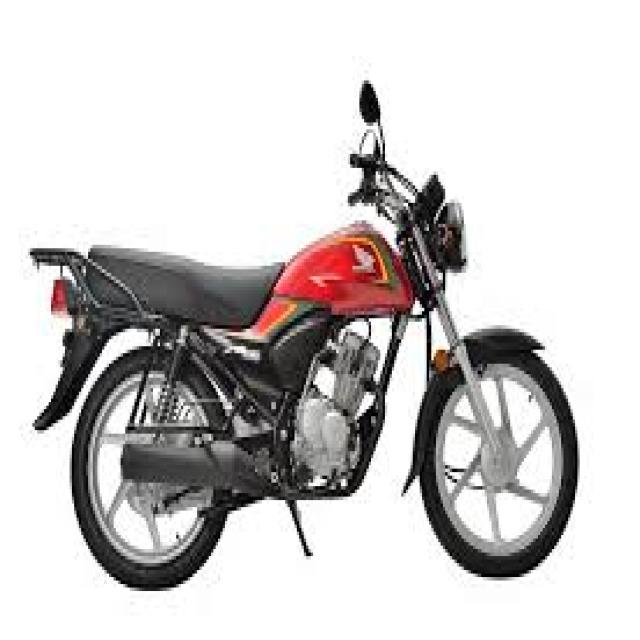bodaboda: (8, 25, 610, 615)
